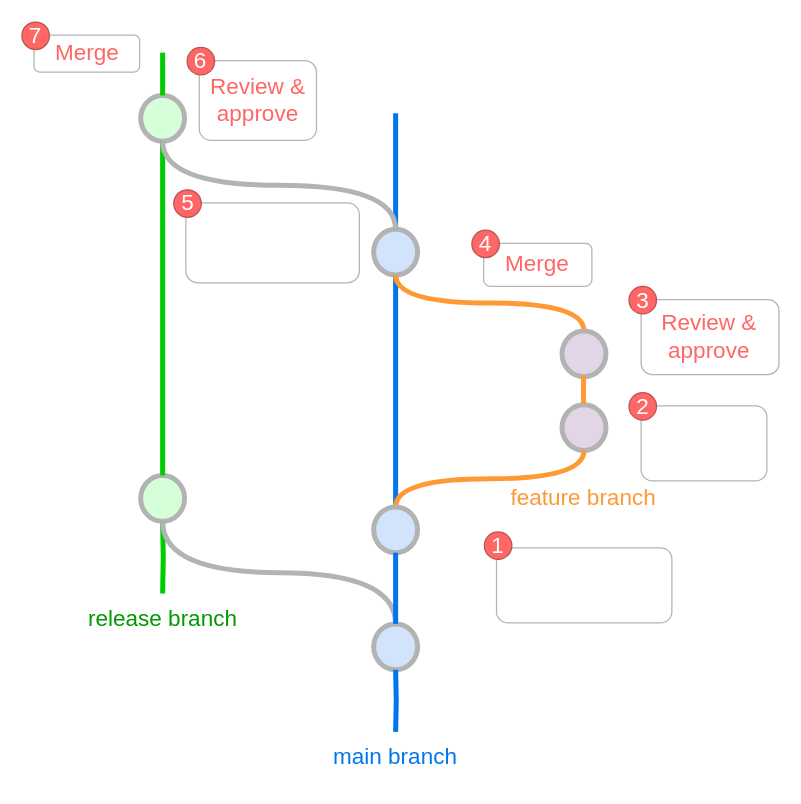
Image size: 801x804. Some labels were removed from this diagram. Each missing label, with the box of its shape:
Commit & sync: (640, 405, 767, 481)
Create "release" merge request: (185, 202, 359, 283)
Create issue & merge request: (495, 547, 672, 623)
